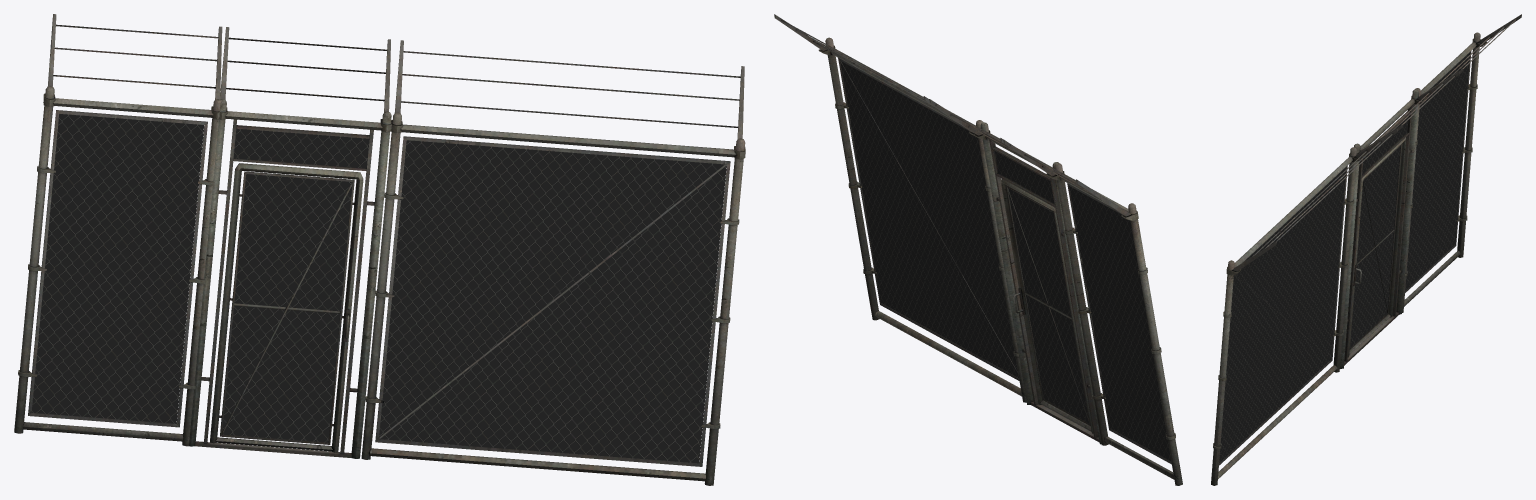
Rendered from levelquake2-c.unity_8.obj.
The picture shows the model from 3 angles, left to right: view 1: azimuth 30°, elevation 25°; view 2: azimuth 150°, elevation 25°; view 3: azimuth 270°, elevation 25°; orthographic projection. The views are drawn at different scales.
Visible parts, largest first — view 1: VBSP_Object.model_instance_157.Body.exterior_fence002c_reference, VBSP_Object.model_instance_155.Body.exterior_fence002b_reference, VBSP_Object.model_instance_158.Body.exterior_fence003b_reference, VBSP_Object.model_instance_156.Body.exterior_fence003a_reference; view 2: VBSP_Object.model_instance_157.Body.exterior_fence002c_reference, VBSP_Object.model_instance_155.Body.exterior_fence002b_reference, VBSP_Object.model_instance_158.Body.exterior_fence003b_reference, VBSP_Object.model_instance_156.Body.exterior_fence003a_reference; view 3: VBSP_Object.model_instance_157.Body.exterior_fence002c_reference, VBSP_Object.model_instance_155.Body.exterior_fence002b_reference, VBSP_Object.model_instance_158.Body.exterior_fence003b_reference, VBSP_Object.model_instance_156.Body.exterior_fence003a_reference.
Boxes of the visible parts, bbox=[...] form: VBSP_Object.model_instance_157.Body.exterior_fence002c_reference: bbox=[361, 40, 745, 485]; VBSP_Object.model_instance_155.Body.exterior_fence002b_reference: bbox=[14, 14, 222, 446]; VBSP_Object.model_instance_158.Body.exterior_fence003b_reference: bbox=[210, 163, 363, 452]; VBSP_Object.model_instance_156.Body.exterior_fence003a_reference: bbox=[189, 27, 391, 458]; VBSP_Object.model_instance_157.Body.exterior_fence002c_reference: bbox=[774, 14, 1026, 402]; VBSP_Object.model_instance_155.Body.exterior_fence002b_reference: bbox=[1003, 139, 1182, 485]; VBSP_Object.model_instance_158.Body.exterior_fence003b_reference: bbox=[1001, 179, 1093, 433]; VBSP_Object.model_instance_156.Body.exterior_fence003a_reference: bbox=[929, 99, 1101, 444]; VBSP_Object.model_instance_157.Body.exterior_fence002c_reference: bbox=[1211, 129, 1398, 485]; VBSP_Object.model_instance_155.Body.exterior_fence002b_reference: bbox=[1402, 14, 1521, 312]; VBSP_Object.model_instance_158.Body.exterior_fence003b_reference: bbox=[1348, 138, 1405, 357]; VBSP_Object.model_instance_156.Body.exterior_fence003a_reference: bbox=[1340, 71, 1460, 368].
Size of the model in its own units: 253 by 170 by 154.
